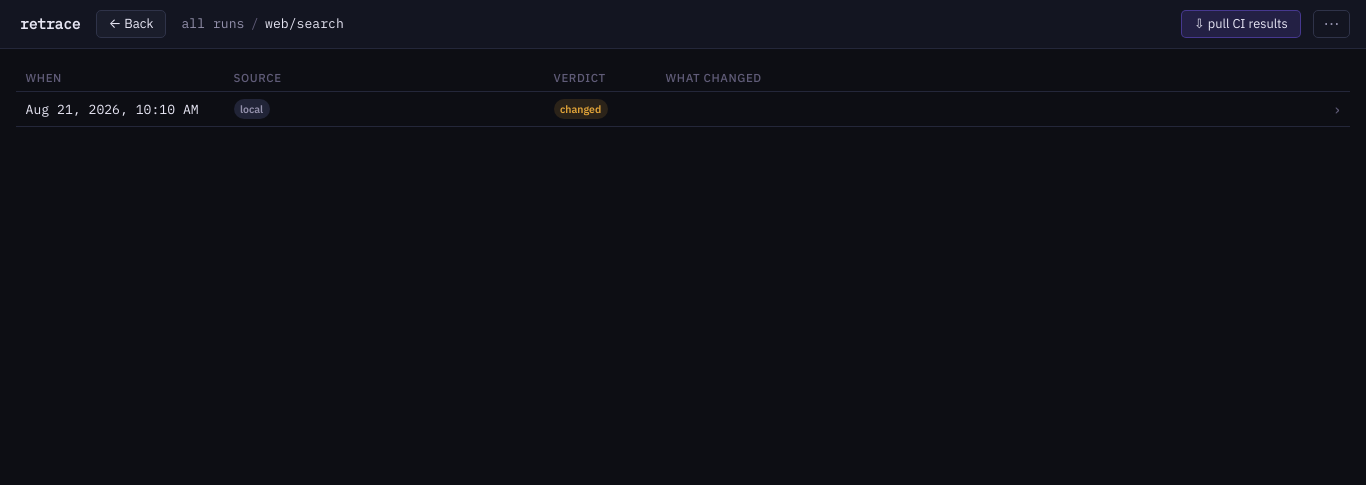
Test: the item screen › names a gate that could not be evaluated instead of rendering nothing
The width and height of the screenshot is (1366, 485).
Click the text "Aug 21, 2026, 10:10 AM": [112, 109] box [26,101,199,118]
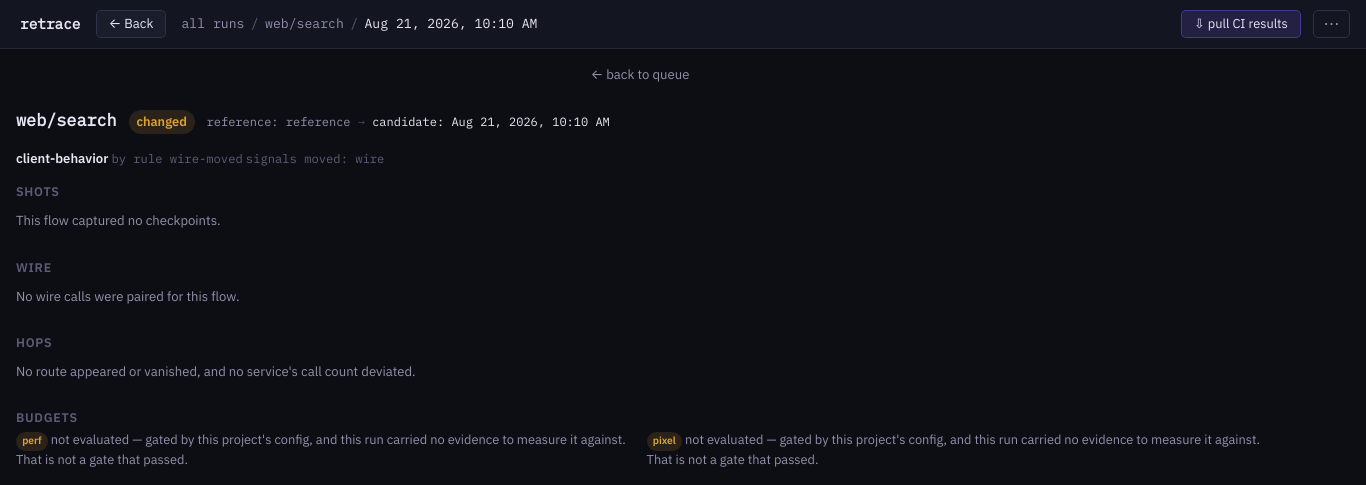
Expected: the list with class "item__budgets" is shown, [16,431,1264,468]
Expected: the list with class "item__budgets" shows "perf", [22,434,42,447]
Expected: the list with class "item__budgets" shows "pixel", [653,434,676,447]
